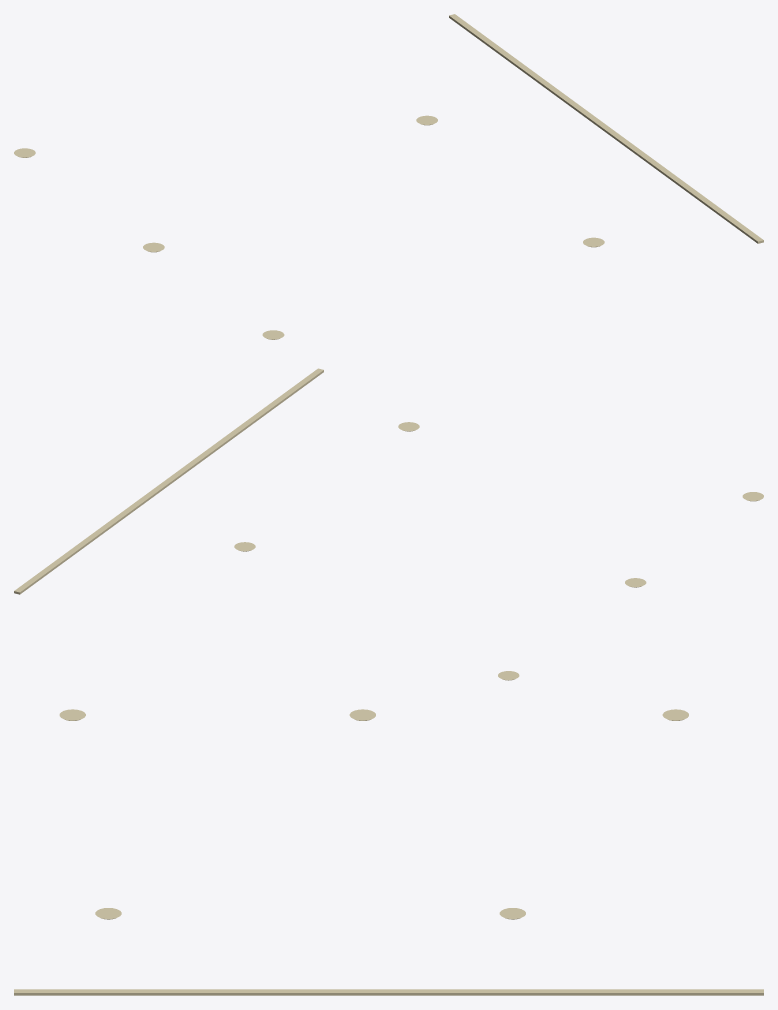
The model's file is lamps.glb.
3 renders of one model, top to bottom at view 1: azimuth 30°, elevation 25°; view 2: azimuth 150°, elevation 25°; view 3: azimuth 270°, elevation 25°, orthographic. The views are drawn at different scales.
Visible parts, largest first — view 1: Waraku_lamps; view 2: Waraku_lamps; view 3: Waraku_lamps.
Part boxes in pixels (bbox=[...]): Waraku_lamps: bbox=[14, 14, 763, 339]; Waraku_lamps: bbox=[14, 368, 763, 680]; Waraku_lamps: bbox=[14, 709, 763, 995].
Bounding box in the file's own units: 2.05 × 0.0149 × 2.3.
